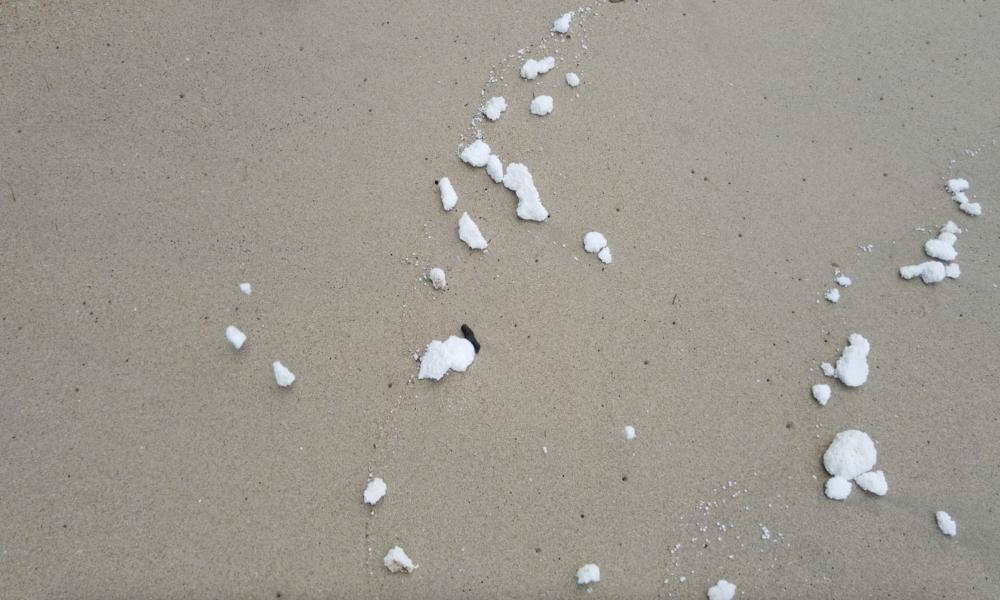styrofoam: (824, 427, 885, 498), (507, 158, 545, 222), (417, 336, 473, 377), (924, 227, 959, 284), (465, 134, 503, 182), (838, 333, 868, 388), (457, 212, 485, 249), (381, 544, 414, 572), (583, 227, 609, 262), (521, 56, 555, 78), (437, 177, 459, 210), (707, 577, 738, 600), (574, 561, 600, 585), (483, 94, 503, 122), (273, 360, 294, 386), (363, 481, 385, 502), (531, 92, 550, 114), (227, 322, 243, 348)
